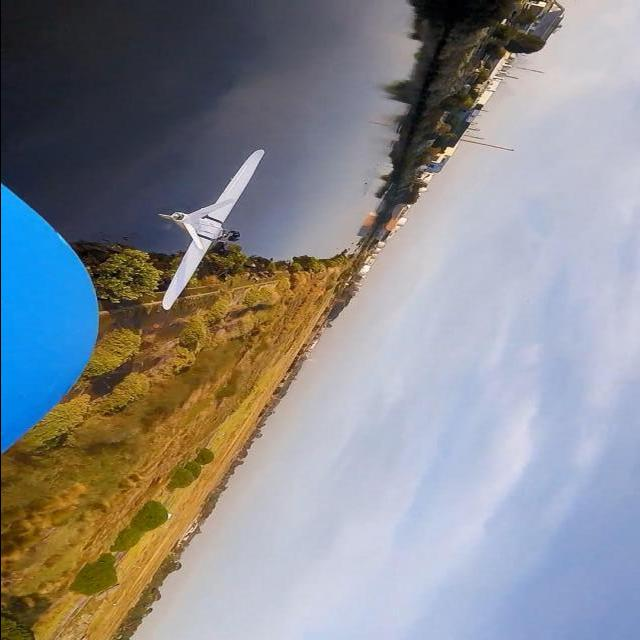UAV: (132, 138, 297, 345)
